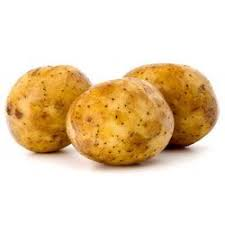potato: (68, 81, 169, 161), (9, 66, 79, 158)
